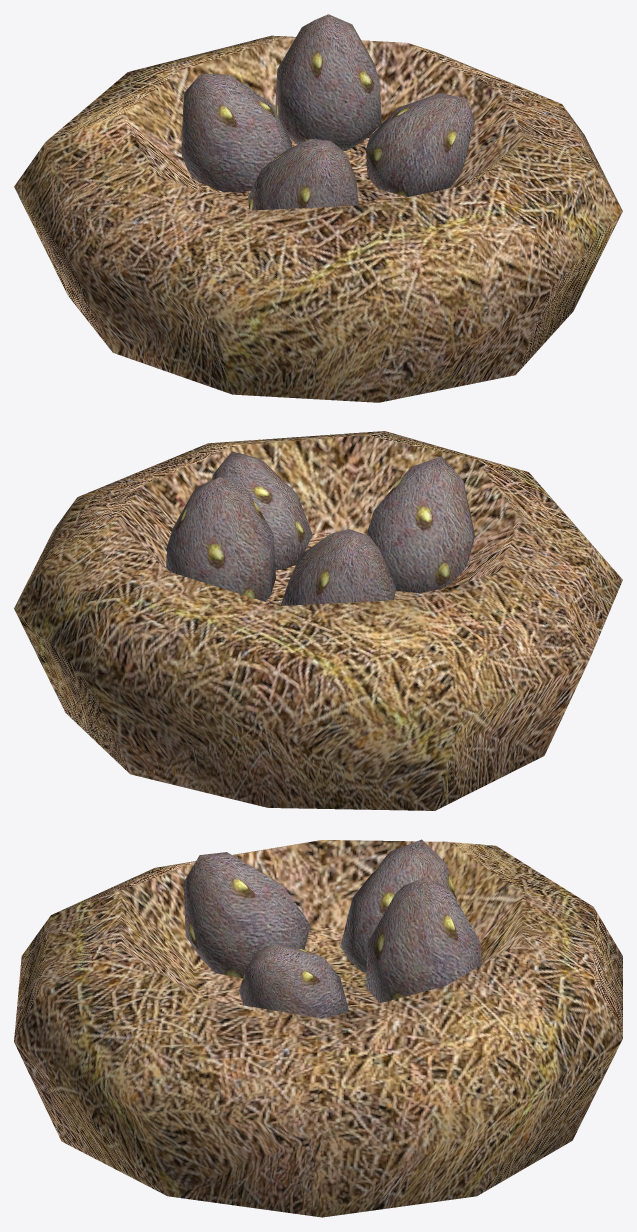
The model's file is poi_all_lair_nest_tree_l0.fbx.
The picture shows the model from 3 angles, top to bottom: view 1: azimuth 30°, elevation 25°; view 2: azimuth 150°, elevation 25°; view 3: azimuth 270°, elevation 25°; orthographic projection. The views are drawn at different scales.
Parts seen in each view (by area): view 1: mesh_node; view 2: mesh_node; view 3: mesh_node.
Part boxes in pixels (x1=…): mesh_node: x1=14, y1=14, x2=622, y2=402; mesh_node: x1=14, y1=431, x2=622, y2=810; mesh_node: x1=14, y1=839, x2=622, y2=1217.
Size of the model in its own units: 2.92 by 1.33 by 2.81.
